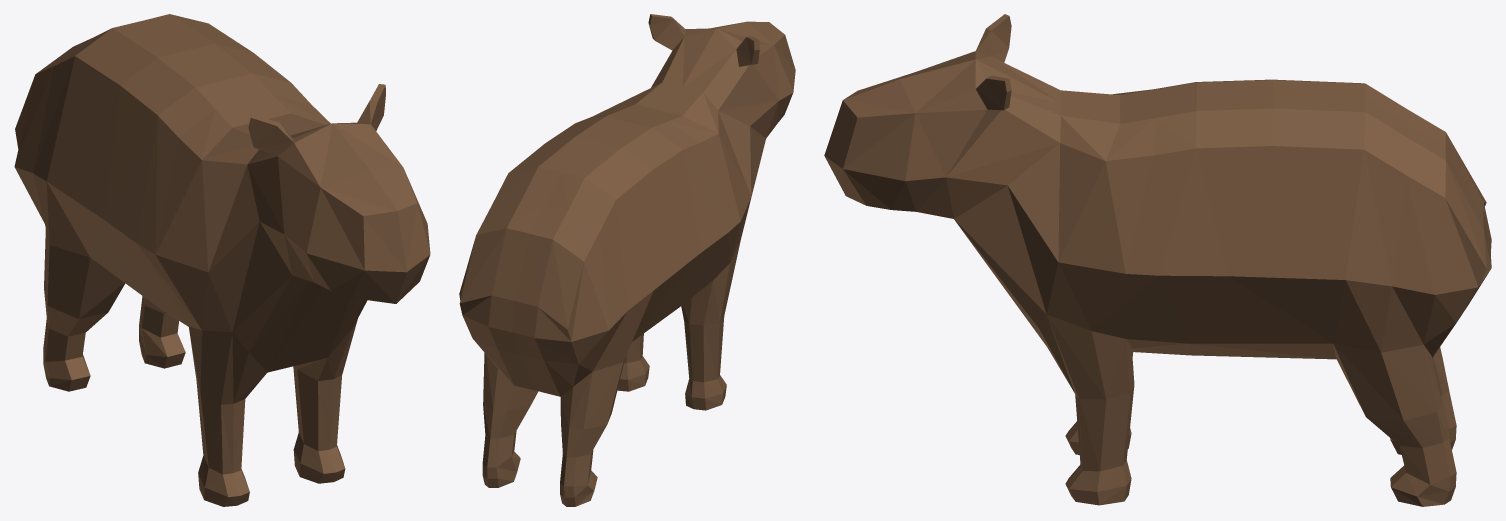
The model's file is Capivara.fbx.
3 views of the same model, side by side, from view 1: azimuth 30°, elevation 25°; view 2: azimuth 150°, elevation 25°; view 3: azimuth 270°, elevation 25° (orthographic). The views are drawn at different scales.
Visible parts, largest first — view 1: Capivara; view 2: Capivara; view 3: Capivara.
Boxes of the visible parts, x1,y1,x2,y2 form: Capivara: (14,14,430,506); Capivara: (459,14,795,506); Capivara: (824,14,1491,506).
Bounding box in the file's own units: 70.21 × 135 × 190.
